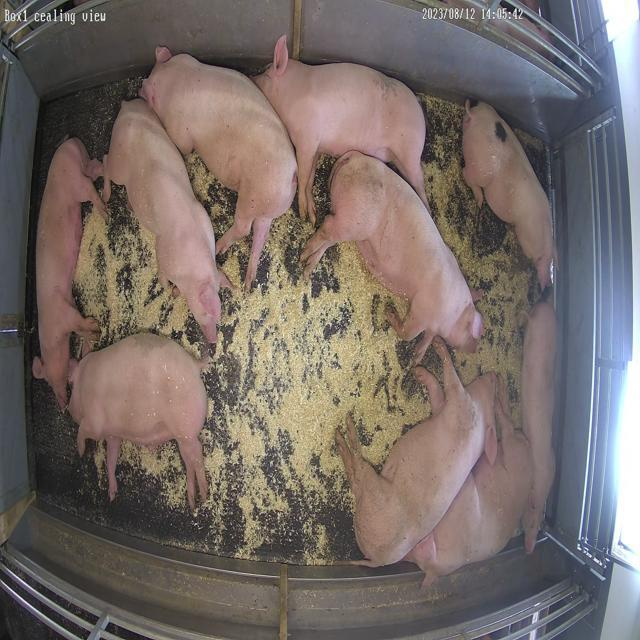Pig: (141, 46, 297, 290), (302, 151, 484, 358), (337, 340, 497, 568), (255, 35, 428, 220), (68, 334, 208, 510), (410, 399, 532, 586), (32, 137, 105, 410), (464, 100, 555, 288), (523, 302, 558, 552)
